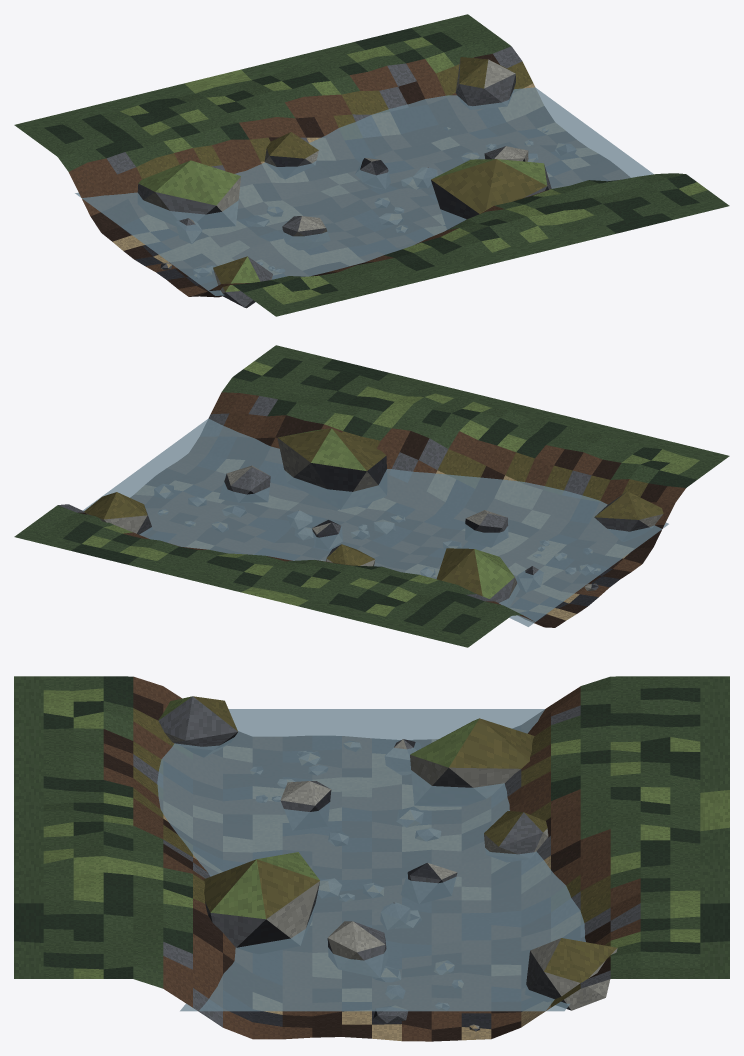
The model's file is terrain_creek.glb.
3 renders of one model, top to bottom at view 1: azimuth 30°, elevation 25°; view 2: azimuth 150°, elevation 25°; view 3: azimuth 270°, elevation 25°, orthographic. The views are drawn at different scales.
Parts seen in each view (by area): view 1: terrain_creek; view 2: terrain_creek; view 3: terrain_creek.
Boxes of the visible parts, <box> form: terrain_creek: <box>14,14,729,316</box>; terrain_creek: <box>14,345,729,647</box>; terrain_creek: <box>14,676,729,1041</box>.
Bounding box in the file's own units: 8 × 1.3 × 8.
Materials: 2 (1 with a texture image).
